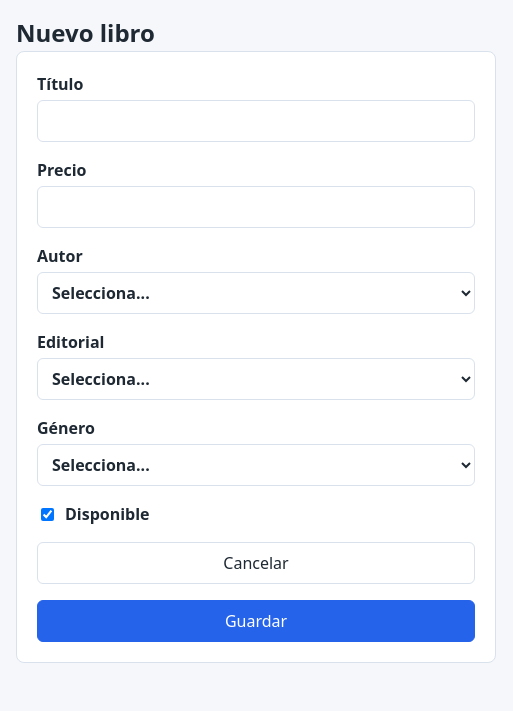
Test: LibroForm › rechaza un precio decimal
The width and height of the screenshot is (513, 711).
Expected: the heading "Nuevo libro" is shown, [16,16,155,49]
Type "10.5" into the number field labelled "Precio" at (256, 207), box [37,186,475,228]
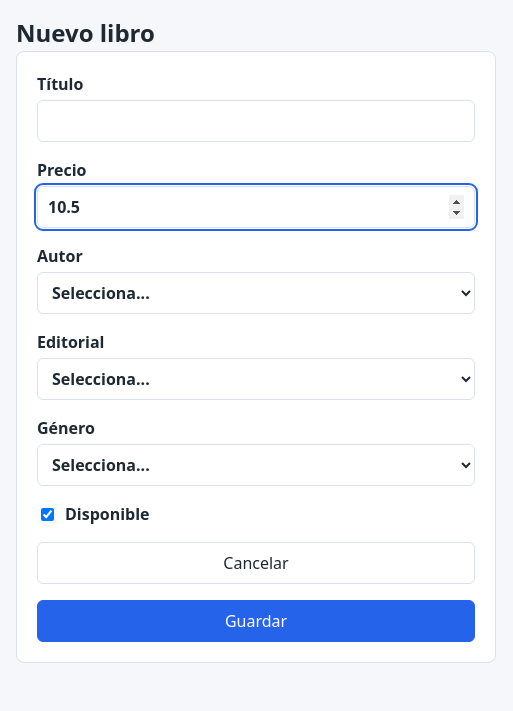
Click the button "Guardar" at (256, 621), box [37,600,475,642]
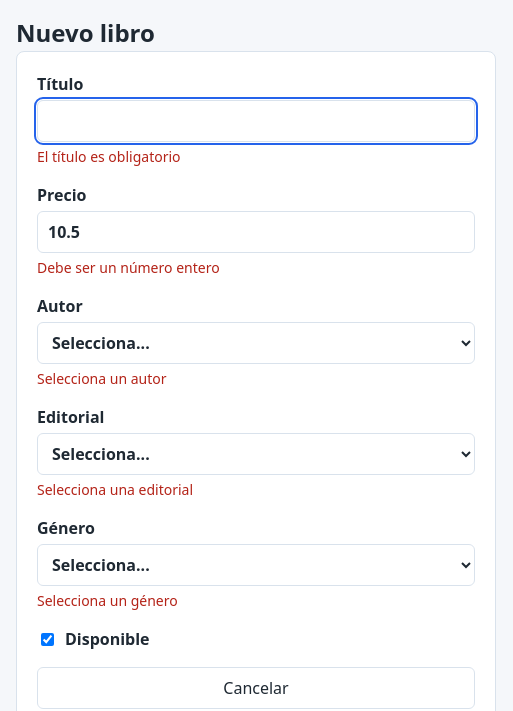
Expected: the text "Debe ser un número entero" is shown, [37,258,220,277]
